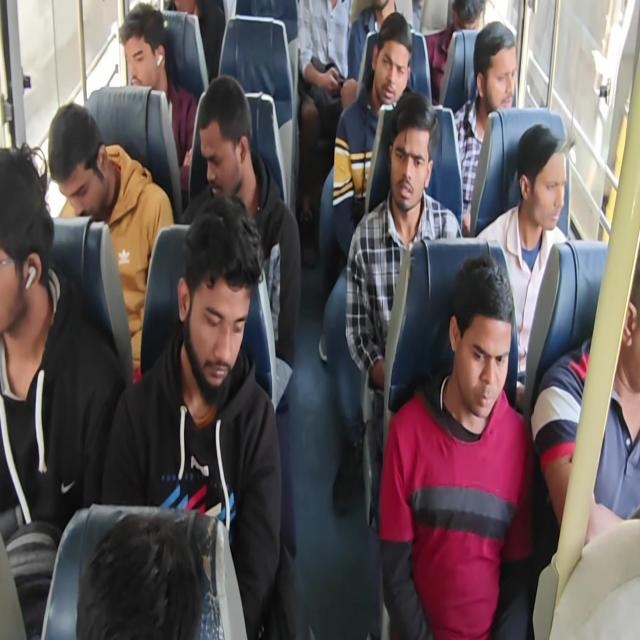person: (1, 1, 638, 638), (100, 193, 295, 638), (0, 142, 127, 638), (378, 254, 534, 638), (180, 74, 302, 560), (344, 91, 463, 457), (48, 101, 174, 383), (530, 248, 640, 548), (474, 122, 568, 409), (332, 12, 414, 258), (118, 1, 198, 195), (453, 21, 517, 234), (296, 0, 354, 225), (424, 0, 485, 105), (341, 0, 396, 110), (166, 0, 227, 81)
